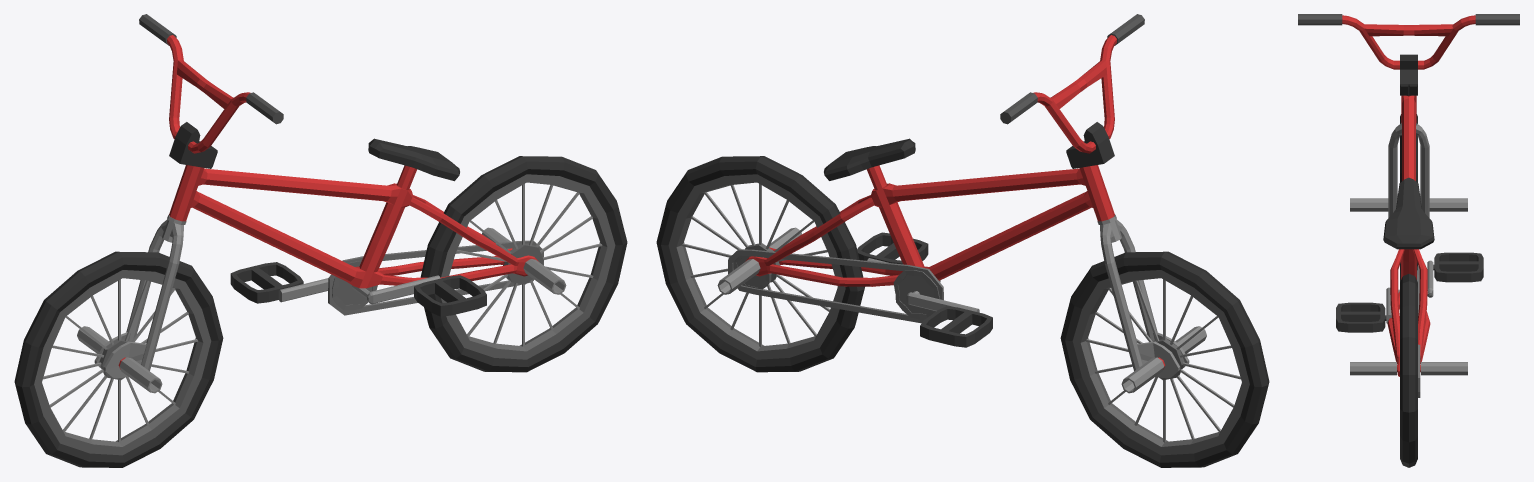
Rendered from BMX.fbx.
3 views of the same model, side by side, from view 1: azimuth 30°, elevation 25°; view 2: azimuth 150°, elevation 25°; view 3: azimuth 270°, elevation 25° (orthographic). The views are drawn at different scales.
Visible parts, largest first — view 1: Front Wheel, Rear Wheel, BMX Frame, Handle Bars, BMX Seat, Left Pedal, Right Pedal, Bike Chain, Pedal Bars, Centre Cog, Front Left Peg, Rear Left Peg; view 2: Front Wheel, Rear Wheel, BMX Frame, Handle Bars, Bike Chain, BMX Seat, Right Pedal, Centre Cog, Left Pedal, Front Right Peg, Rear Right Peg, Pedal Bars; view 3: Handle Bars, BMX Frame, Rear Wheel, BMX Seat, Right Pedal, Left Pedal, Rear Right Peg, Rear Left Peg, Front Left Peg, Front Right Peg, Pedal Bars, Bike Chain (+1 smaller).
Part boxes in pixels (bbox=[...]): Front Wheel: bbox=[14, 251, 223, 467]; Rear Wheel: bbox=[420, 156, 627, 372]; BMX Frame: bbox=[169, 165, 538, 288]; Handle Bars: bbox=[94, 14, 283, 378]; BMX Seat: bbox=[368, 138, 459, 190]; Left Pedal: bbox=[414, 275, 486, 316]; Right Pedal: bbox=[230, 262, 303, 303]; Bike Chain: bbox=[328, 240, 543, 315]; Pedal Bars: bbox=[278, 275, 440, 304]; Centre Cog: bbox=[332, 261, 377, 310]; Front Left Peg: bbox=[119, 357, 162, 393]; Rear Left Peg: bbox=[523, 259, 566, 294]; Front Wheel: bbox=[1060, 251, 1269, 467]; Rear Wheel: bbox=[656, 156, 864, 372]; BMX Frame: bbox=[745, 165, 1114, 286]; Handle Bars: bbox=[1000, 14, 1189, 378]; Bike Chain: bbox=[728, 249, 943, 323]; BMX Seat: bbox=[824, 138, 915, 190]; Right Pedal: bbox=[920, 306, 992, 347]; Centre Cog: bbox=[893, 270, 939, 319]; Left Pedal: bbox=[857, 232, 928, 264]; Front Right Peg: bbox=[1121, 357, 1164, 393]; Rear Right Peg: bbox=[717, 259, 760, 294]; Pedal Bars: bbox=[867, 258, 979, 312]; Handle Bars: bbox=[1298, 14, 1519, 217]; BMX Frame: bbox=[1387, 95, 1430, 376]; Rear Wheel: bbox=[1400, 274, 1417, 467]; BMX Seat: bbox=[1383, 177, 1434, 249]; Right Pedal: bbox=[1433, 252, 1483, 282]; Left Pedal: bbox=[1336, 302, 1386, 332]; Rear Right Peg: bbox=[1421, 362, 1467, 375]; Rear Left Peg: bbox=[1350, 362, 1396, 375]; Front Left Peg: bbox=[1350, 198, 1388, 211]; Front Right Peg: bbox=[1429, 198, 1467, 211]; Pedal Bars: bbox=[1386, 260, 1433, 323]; Bike Chain: bbox=[1417, 266, 1420, 397].
Bounding box in the file's own units: 1476 × 889 × 560.
